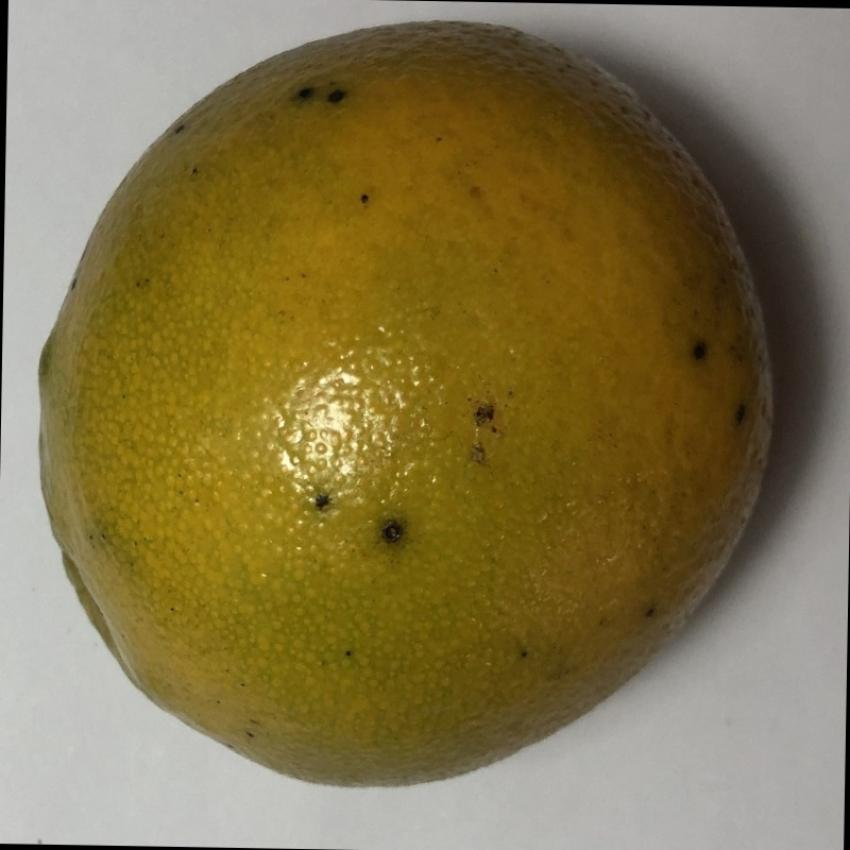Mal estado: (29, 10, 797, 800)
